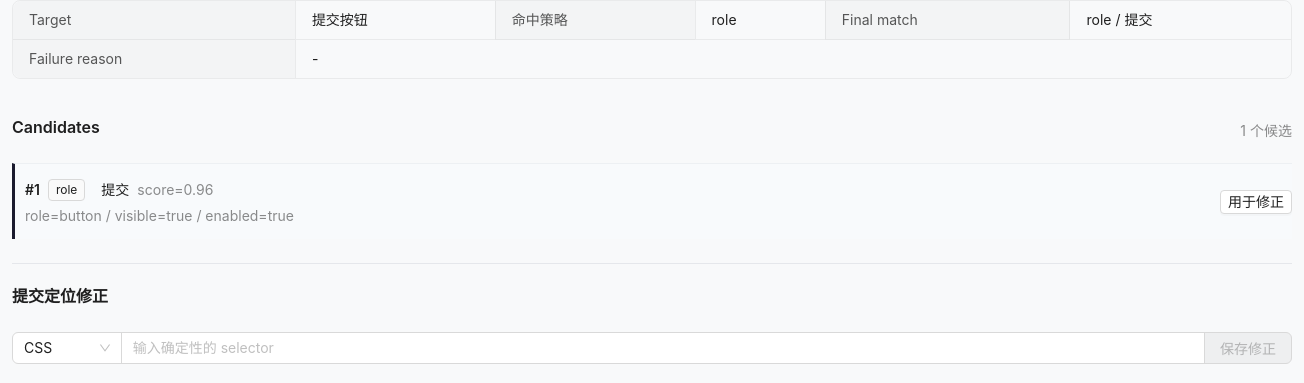
Test: LocatorEvidencePanel › 可从 data-testid 候选填入修正值
Click the button "用于修正" at coordinates (1256, 202), box [1220,190,1292,214]
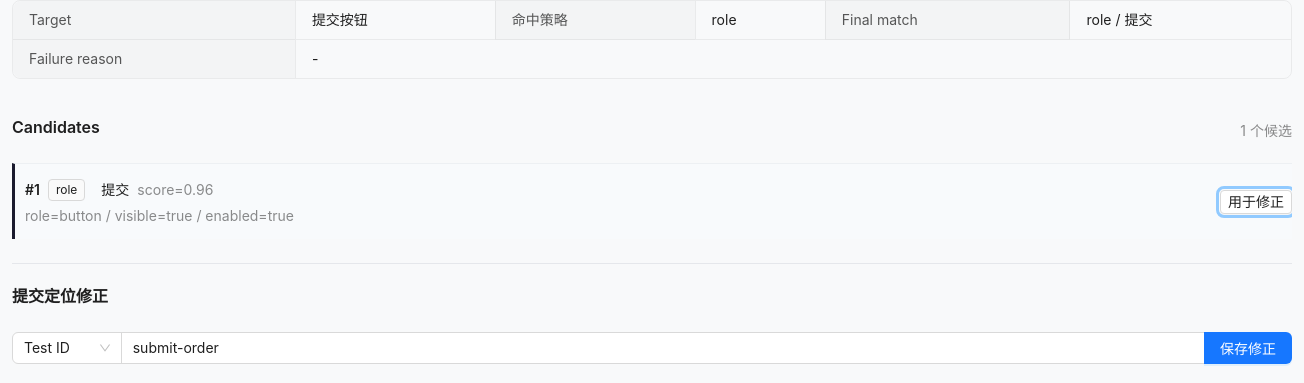
Check: the field named "修正值" holds "submit-order", box [121,332,1205,364]
Check: the element named "修正类型" reads "Test ID", box [24,339,70,356]
